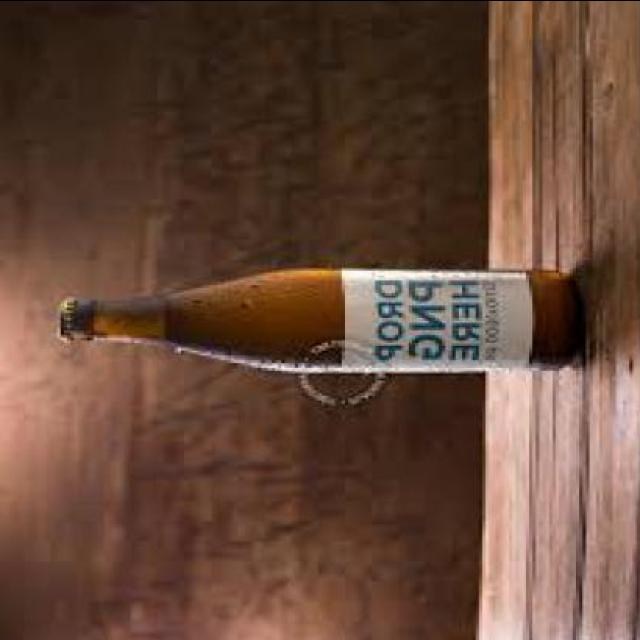kaca: (58, 264, 576, 370)
